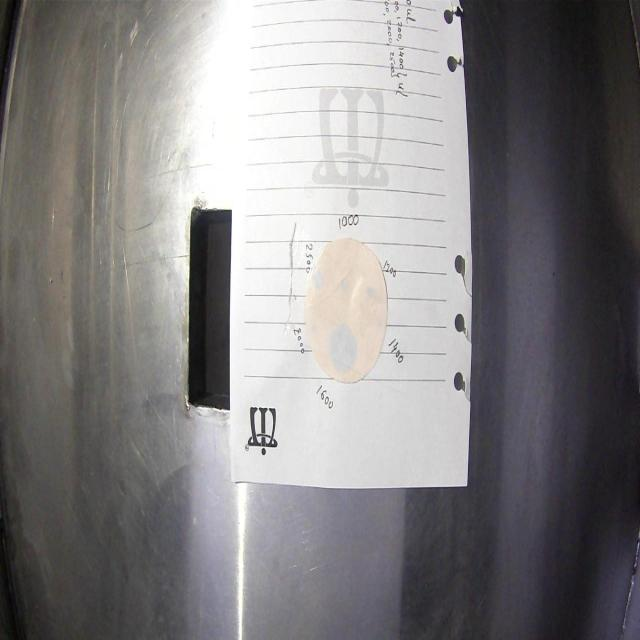BlueColor: (329, 324, 358, 374), (312, 268, 324, 290), (340, 277, 350, 292), (376, 316, 384, 330), (366, 287, 374, 298), (312, 323, 317, 334)
